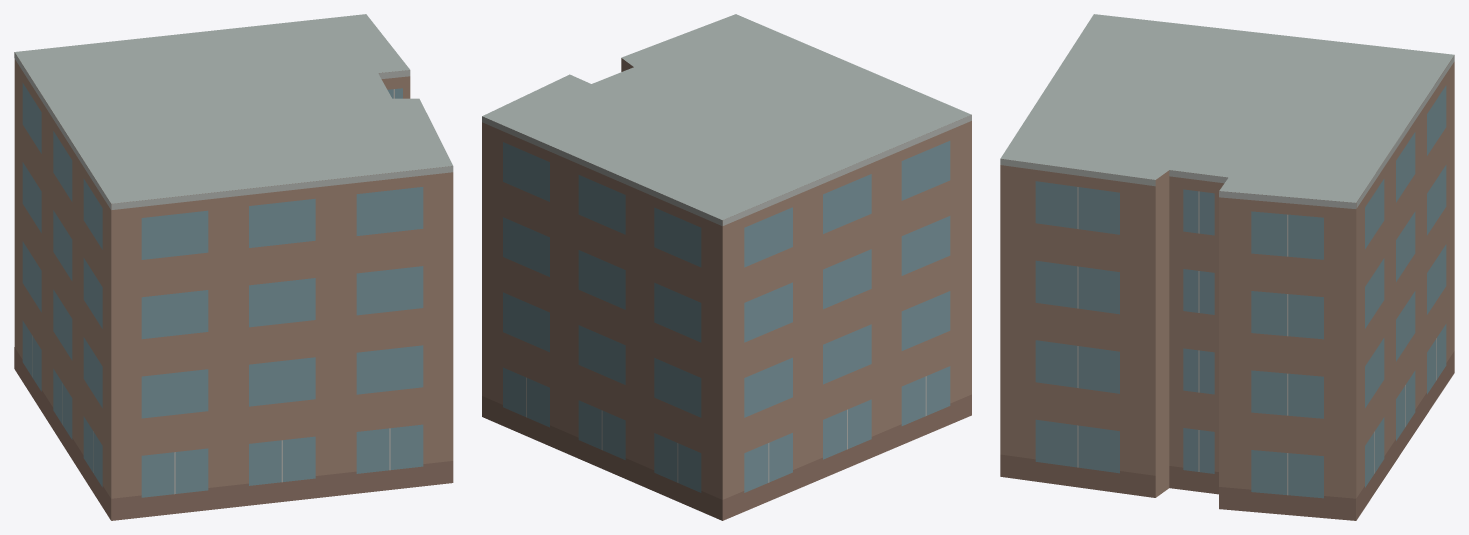
Rendered from survey-upis-32828379.glb.
3 views of the same model, side by side, from view 1: azimuth 30°, elevation 25°; view 2: azimuth 150°, elevation 25°; view 3: azimuth 270°, elevation 25° (orthographic). The views are drawn at different scales.
Visible parts, largest first — view 1: survey-upis-32828379.tmp; view 2: survey-upis-32828379.tmp; view 3: survey-upis-32828379.tmp.
Part boxes in pixels (x1,y1,x2,y2): survey-upis-32828379.tmp: (14, 14, 453, 520); survey-upis-32828379.tmp: (482, 14, 971, 520); survey-upis-32828379.tmp: (1000, 14, 1454, 520).
Size of the model in its own units: 15.55 by 12.2 by 15.8.
